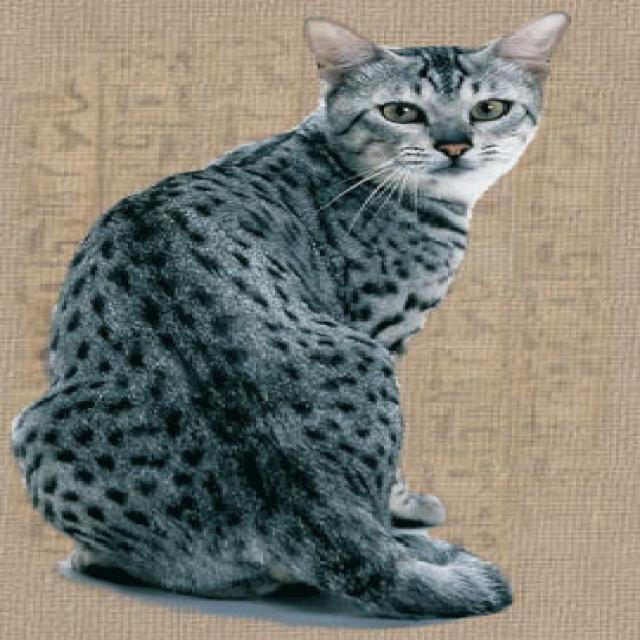Egyptian_Mau: (300, 9, 574, 226)
